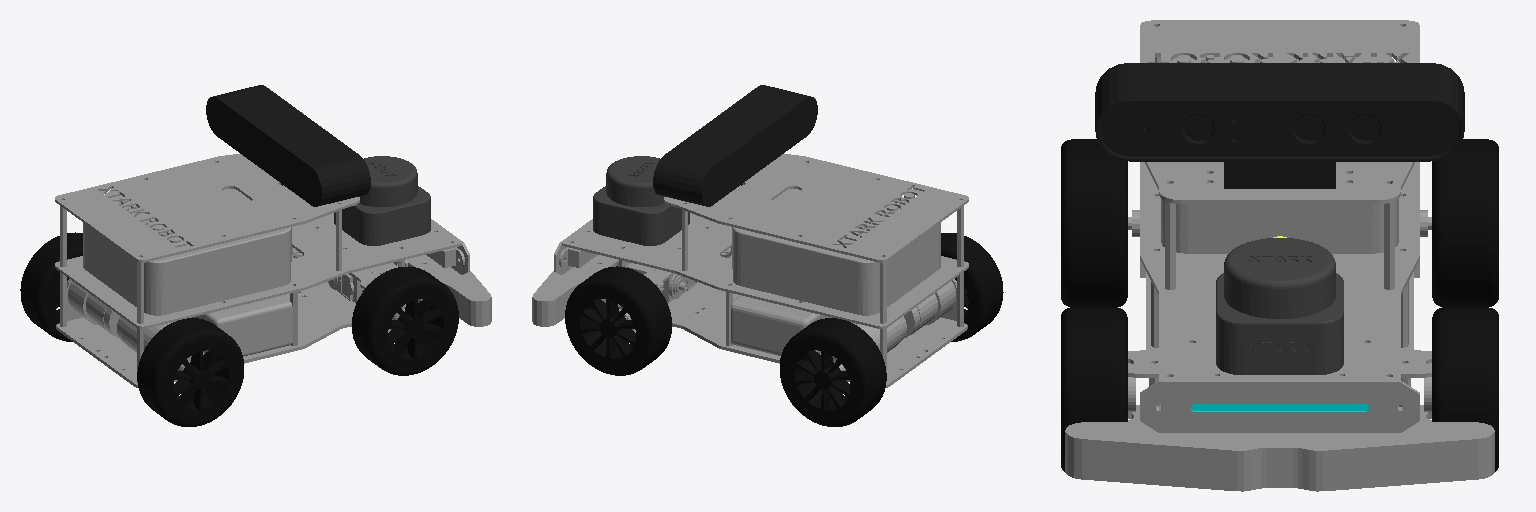
URDF robot description (tarkbot_robot):
<?xml version="1.0" encoding="utf-8"?>

<robot name="tarkbot_robot">

    <!-- 机器人底部中心原点 -->
    <link name="base_footprint">
        <visual>
            <geometry>
                <sphere radius="0.001" />
            </geometry>
        </visual>
    </link>

    <!-- 机器人底盘 -->
    <link name="base_link">
        <visual>
            <geometry>
                <mesh filename="package://tarkbot_description/meshes/base_r20_akm.stl" />
            </geometry>
            <origin xyz="0 0 0" rpy="0 0 0" />
            <material name="base_color">
                <!-- <color rgba="0.000 0.500 0.500 1" /> -->
                <!-- <color rgba="0.000 0.000 1.000 1" /> -->
                <!-- <color rgba="1.000 0.500 0.000 1" /> -->
                <color rgba="0.650 0.650 0.650 1" />
            </material>
        </visual>
    </link>   

    <!-- 机器人轮子 -->
    <link name="wheel_fl">
        <visual>
            <geometry>
                <mesh filename="package://tarkbot_description/meshes/wheel/w75.stl" />
            </geometry>
            <origin xyz="0 0 0" rpy="0 0 0" />
            <material name="wheel_color">
                <color rgba="0.1 0.1 0.1 1" />
            </material>
        </visual>
    </link>  

    <link name="wheel_fr">
        <visual>
            <geometry>
                <mesh filename="package://tarkbot_description/meshes/wheel/w75.stl" />
            </geometry>
            <origin xyz="0 0 0" rpy="0 0 0" />
            <material name="wheel_color">
                <color rgba="0.1 0.1 0.1 1" />
            </material>
        </visual>
    </link>  

    <link name="wheel_bl">
        <visual>
            <geometry>
                <mesh filename="package://tarkbot_description/meshes/wheel/w75.stl" />
            </geometry>
            <origin xyz="0 0 0" rpy="0 0 0" />
            <material name="wheel_color">
                <color rgba="0.1 0.1 0.1 1" />
            </material>
        </visual>
    </link>  

    <link name="wheel_br">
        <visual>
            <geometry>
                <mesh filename="package://tarkbot_description/meshes/wheel/w75.stl" />
            </geometry>
            <origin xyz="0 0 0" rpy="0 0 0" />
            <material name="wheel_color">
                <color rgba="0.1 0.1 0.1 1" />
            </material>
        </visual>
    </link>  



    <!-- 机器人雷达 -->
    <link name="laser_link">
        <visual>
            <geometry>
                <mesh filename="package://tarkbot_description/meshes/laser_s.stl" />
            </geometry>
            <origin xyz="0 0 -0.035" rpy="0 0 0" />
            <material name="laser_color">
                <color rgba="0.3 0.3 0.3 1" />
            </material>
        </visual>
    </link> 

    <!-- 机器人摄像头 -->
    <link name="camera_link">
        <visual>
            <geometry>
                <mesh filename="package://tarkbot_description/meshes/depthcamera.stl" />
            </geometry>
            <origin xyz="-0.037 0 0" rpy="0 0 0" />
            <material name="camera_color">
                <color rgba="0.15 0.15 0.15 1" />
            </material>
        </visual>
    </link>

    <!-- 机器人IMU传感器 -->
    <link name="imu_link">
        <visual>
            <geometry>
                <sphere radius="0.010" />
            </geometry>
            <origin xyz="0 0 0" rpy="0 0 0" />
            <material name="imu_color">
                <color rgba="1 1 0 1" />
            </material>
        </visual>
    </link>

    <!-- 机器人前灯 -->
    <link name="light_link">
        <visual>
            <geometry>
                <mesh filename="package://tarkbot_description/meshes/light.stl" />
            </geometry>
            <origin xyz="0 0 0" rpy="0 0 0" />
            <material name="light_color">
                <color rgba="0.0 1.0 1.0 1" />
            </material>
        </visual>
    </link>

    <!-- 底盘与原点连接的关节 -->
    <joint name="baselink2footprint" type="fixed">
        <origin xyz="0 0 0.074" rpy="0 0 0"/>
        <parent link="base_footprint" />
        <child  link="base_link" />
    </joint>

    <!-- 轮子到与底盘连接的关节 -->
    <joint name="wheelfl2base" type="fixed">
        <origin xyz="0.076 0.088 -0.03465" rpy="0 0 1.57"/>
        <parent link="base_link" />
        <child  link="wheel_fl" />
    </joint>

    <joint name="wheelfr2base" type="fixed">
        <origin xyz="0.076 -0.088 -0.03465" rpy="0 0 -1.57"/>
        <parent link="base_link" />
        <child  link="wheel_fr" />
    </joint>

    <joint name="wheelbl2base" type="fixed">
        <origin xyz="-0.100 0.088 -0.034" rpy="0 0 1.57"/>
        <parent link="base_link" />
        <child  link="wheel_bl" />
    </joint>

    <joint name="wheelbr2base" type="fixed">
        <origin xyz="-0.100 -0.088 -0.034" rpy="0 0 -1.57"/>
        <parent link="base_link" />
        <child  link="wheel_br" />
    </joint>


    <!-- 雷达到与底盘连接的关节 -->
    <joint name="laser2base" type="fixed">
        <origin xyz="0.105 0 0.035" rpy="0 0 0"/>
        <parent link="base_link" />
        <child  link="laser_link" />
    </joint>

    <!-- 深度摄像头与底盘连接的关节 -->
    <joint name="camera2base" type="fixed">
        <origin xyz="0.045 0 0.0805" rpy="0 0 0"/>
        <parent link="base_link" />
        <child  link="camera_link" />
    </joint>

    <!-- IMU传感器与底盘连接的关节 -->
    <joint name="imu2base" type="fixed">
        <origin xyz="0 0 0" rpy="0 0 0"/>
        <parent link="base_link" />
        <child  link="imu_link" />
    </joint>

    <!-- 前灯与底盘连接的关节 -->
    <joint name="light2base" type="fixed">
        <origin xyz="0.140 0 -0.0125 " rpy="0 0 0"/>
        <parent link="base_link" />
        <child  link="light_link" />
    </joint>

</robot>

--- What the picture shows (computed from the rendered views, not written in the file) ---
Views: 3 orthographic renders of the robot side by side, from view 1: azimuth 30°, elevation 25°; view 2: azimuth 150°, elevation 25°; view 3: azimuth 270°, elevation 25°.
Robot: tarkbot_robot — 10 links, 9 joints (9 fixed); root link base_footprint; default pose: every joint at zero.
Links seen in each view (by area): view 1: base_link, camera_link, wheel_fr, wheel_br, laser_link, wheel_bl; view 2: base_link, camera_link, wheel_fl, wheel_bl, laser_link, wheel_br; view 3: base_link, camera_link, laser_link, wheel_br, wheel_bl, wheel_fr, wheel_fl, light_link.
Link boxes in pixels (left/top/right/bottom): base_link: left=55, top=154, right=491, bottom=387; camera_link: left=206, top=85, right=370, bottom=206; wheel_fr: left=352, top=266, right=458, bottom=375; wheel_br: left=137, top=318, right=243, bottom=426; laser_link: left=334, top=156, right=430, bottom=245; wheel_bl: left=20, top=232, right=82, bottom=341; base_link: left=532, top=154, right=968, bottom=387; camera_link: left=653, top=85, right=817, bottom=206; wheel_fl: left=565, top=266, right=671, bottom=375; wheel_bl: left=780, top=318, right=886, bottom=426; laser_link: left=593, top=156, right=689, bottom=245; wheel_br: left=941, top=233, right=1003, bottom=341; base_link: left=1065, top=20, right=1494, bottom=491; camera_link: left=1095, top=63, right=1464, bottom=188; laser_link: left=1216, top=238, right=1343, bottom=374; wheel_br: left=1061, top=139, right=1127, bottom=306; wheel_bl: left=1432, top=139, right=1498, bottom=306; wheel_fr: left=1061, top=307, right=1127, bottom=471; wheel_fl: left=1432, top=307, right=1498, bottom=471; light_link: left=1191, top=404, right=1368, bottom=410.
Size in the robot's own frame: 0.293 by 0.1961 by 0.1705 metres.
8 mesh visuals loaded from 5 distinct referenced files (5 binary STL).